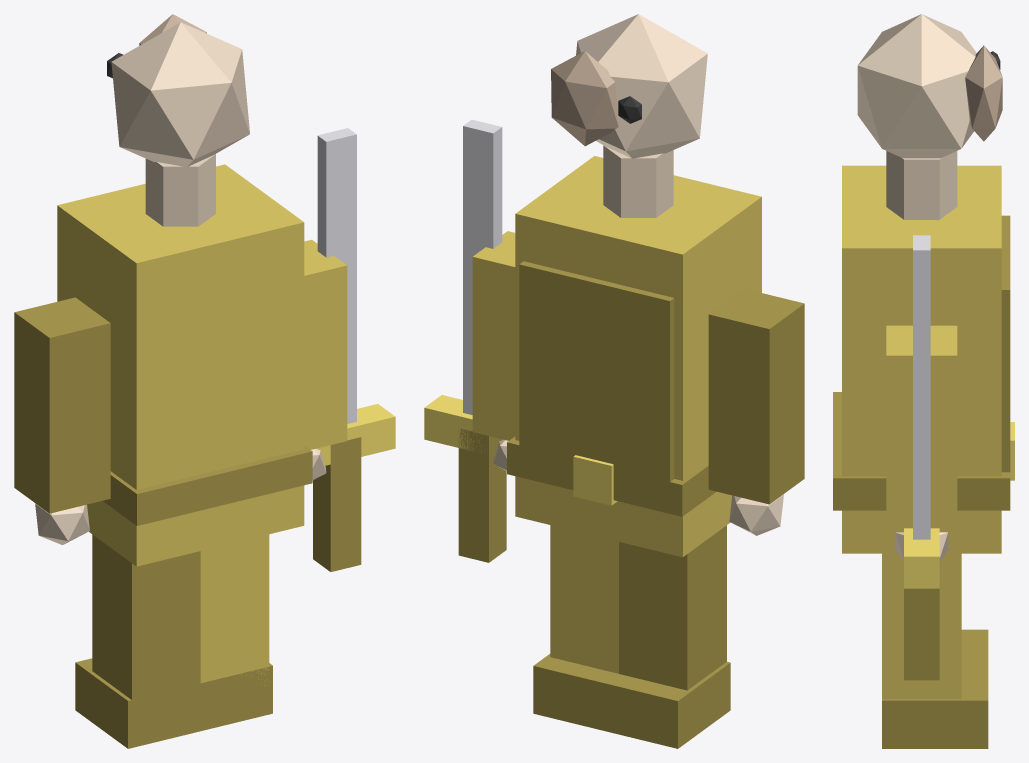
Rendered from swordmaster.glb.
3 renders of one model, left to right at view 1: azimuth 30°, elevation 25°; view 2: azimuth 150°, elevation 25°; view 3: azimuth 270°, elevation 25°, orthographic.
Parts seen in each view (by area): view 1: swordmaster; view 2: swordmaster; view 3: swordmaster.
Boxes of the visible parts, left/top/right/bottom form: swordmaster: left=14, top=14, right=395, bottom=748; swordmaster: left=424, top=14, right=804, bottom=748; swordmaster: left=833, top=14, right=1014, bottom=748.
Size of the model in its own units: 0.93 by 1.74 by 0.41.
